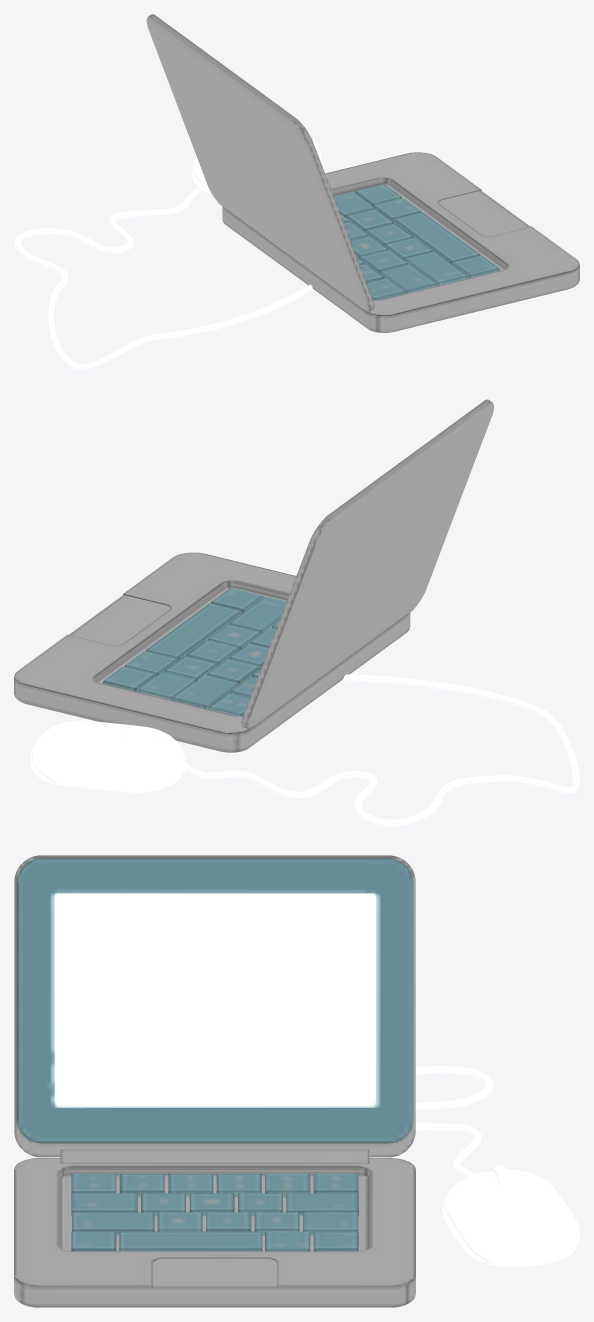
Rendered from compressed-mini_macbook_pro.glb.
The picture shows the model from 3 angles, top to bottom: view 1: azimuth 30°, elevation 25°; view 2: azimuth 150°, elevation 25°; view 3: azimuth 270°, elevation 25°; orthographic projection. The views are drawn at different scales.
Visible parts, largest first — view 1: MacBook_1, Muis_1; view 2: MacBook_1, Muis_1; view 3: MacBook_1, Muis_1.
Boxes of the visible parts, box(x1,y1,x2,y2) form: MacBook_1: box(146, 14, 579, 332); Muis_1: box(14, 139, 321, 370); MacBook_1: box(14, 399, 493, 752); Muis_1: box(30, 674, 579, 826); MacBook_1: box(14, 855, 415, 1307); Muis_1: box(415, 1066, 579, 1266).
Bounding box in the file's own units: 580 × 334 × 521.
Materials: 3 (1 with a texture image).
